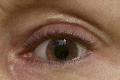eye: (46, 39, 78, 61)
